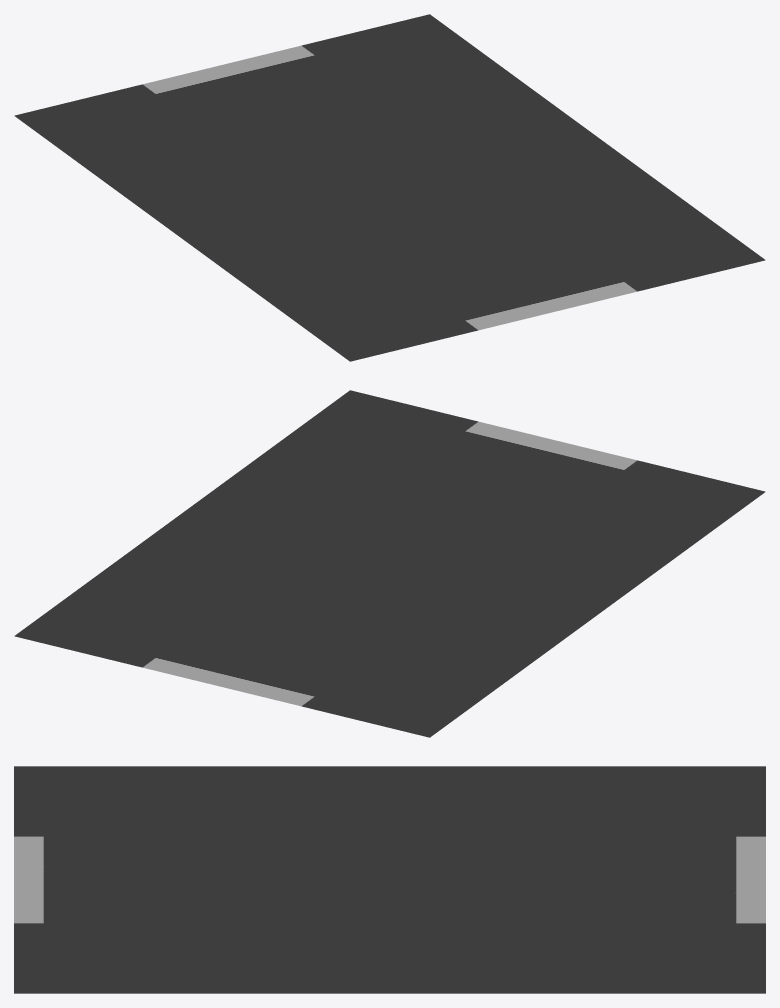
File: roadLane_straight_Centered_mesh.fbx
The picture shows the model from 3 angles, top to bottom: view 1: azimuth 30°, elevation 25°; view 2: azimuth 150°, elevation 25°; view 3: azimuth 270°, elevation 25°; orthographic projection. The views are drawn at different scales.
Visible parts, largest first — view 1: roadLane_straight_mesh1; view 2: roadLane_straight_mesh1; view 3: roadLane_straight_mesh1.
Boxes of the visible parts, x1,y1,x2,y2 form: roadLane_straight_mesh1: [14, 14, 765, 361]; roadLane_straight_mesh1: [14, 390, 765, 737]; roadLane_straight_mesh1: [14, 766, 765, 993].
Bounding box in the file's own units: 5 × 0 × 7.
Materials: 1 (1 with a texture image).
